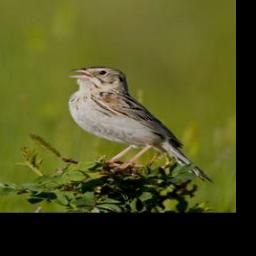Sparrow: (73, 66, 220, 185)
